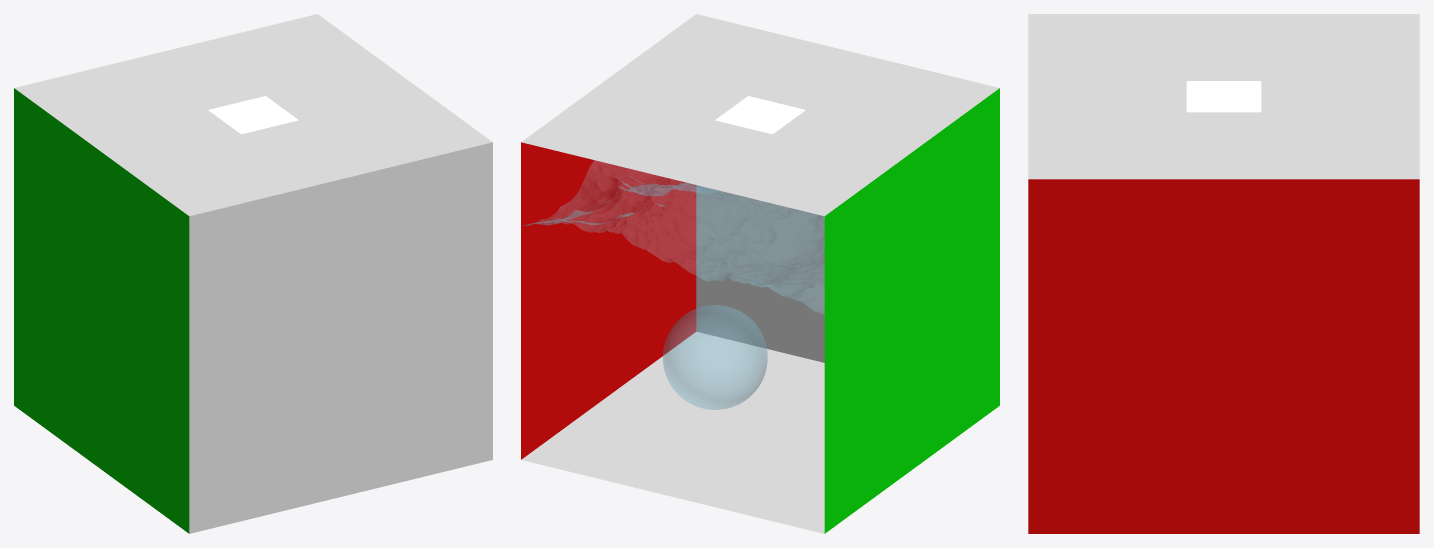
Rendered from caustics_big.glb.
3 renders of one model, left to right at view 1: azimuth 30°, elevation 25°; view 2: azimuth 150°, elevation 25°; view 3: azimuth 270°, elevation 25°, orthographic. The views are drawn at different scales.
Visible parts, largest first — view 1: Back, Right, Top Big, Top Big Light; view 2: Right, Top Big, Left, Bottom, Water Sheet, Back, Icosphere, Top Big Light; view 3: Left, Top Big, Top Big Light.
Boxes of the visible parts, x1,y1,x2,y2 form: Back: [189, 142, 492, 533]; Right: [14, 88, 189, 533]; Top Big: [14, 14, 492, 216]; Top Big Light: [208, 96, 298, 134]; Right: [824, 88, 999, 533]; Top Big: [521, 14, 999, 216]; Left: [521, 142, 696, 459]; Bottom: [521, 331, 824, 533]; Water Sheet: [522, 160, 824, 313]; Back: [696, 185, 824, 362]; Icosphere: [663, 305, 767, 409]; Top Big Light: [715, 96, 805, 134]; Left: [1028, 179, 1419, 533]; Top Big: [1028, 14, 1419, 179]; Top Big Light: [1186, 81, 1261, 112].
Bounding box in the file's own units: 2 × 2 × 2.
